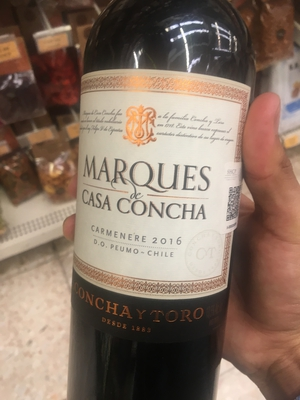marques de casa concha carmenere: (63, 9, 250, 400)
